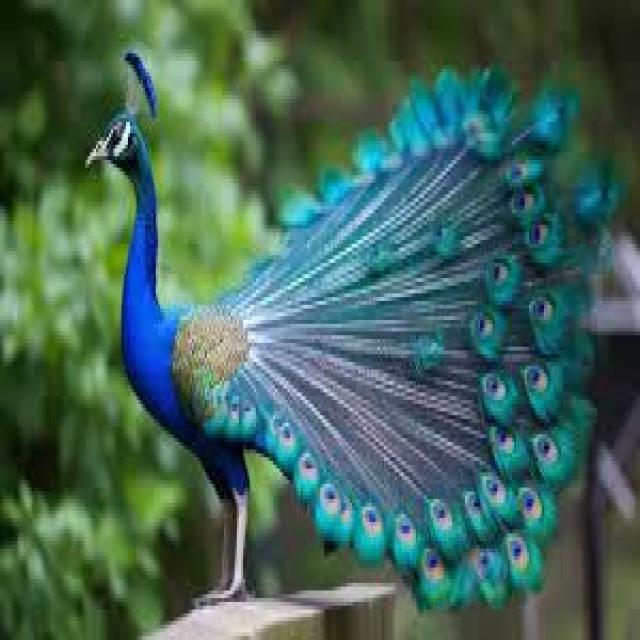peacock: (82, 51, 630, 616)
